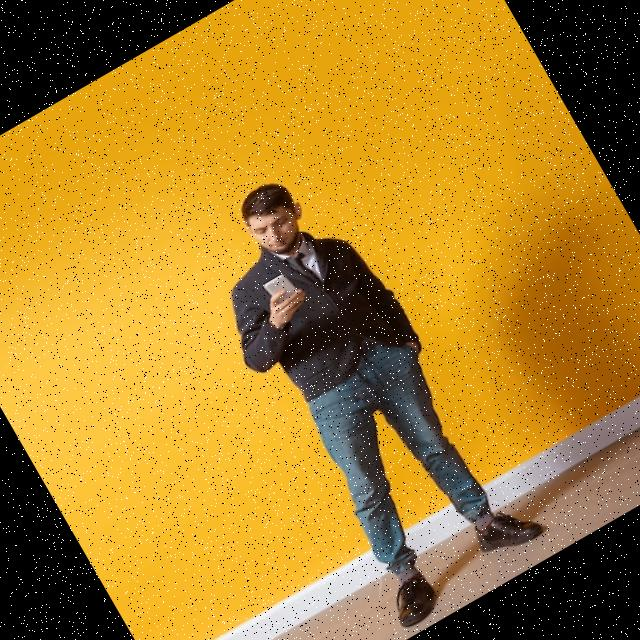Person: (173, 148, 555, 632)
